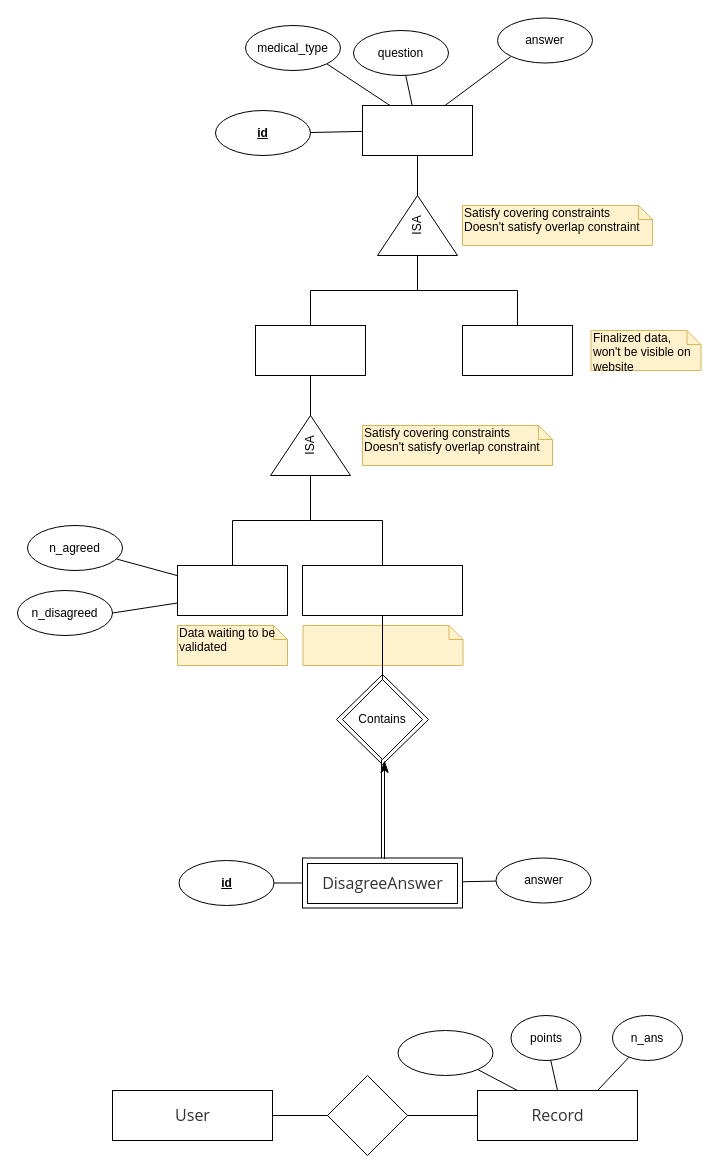
Image size: 719x1173. Some labels were removed from this diagram. Here are the shapes that lost their labels. From the top down, the centre of each, then its label:
At point 417,130: "Data".
At point 310,350: "DataUnsettled".
At point 517,350: "DataSettled".
At point 232,590: "FirstIterData".
At point 382,590: "SecondIterData".
At point 382,645: "Data validated and is shown to be incorrect, correct answer to be chosen".
At point 445,1053: "n_correct_ans".
At point 367,1115: "Has".
